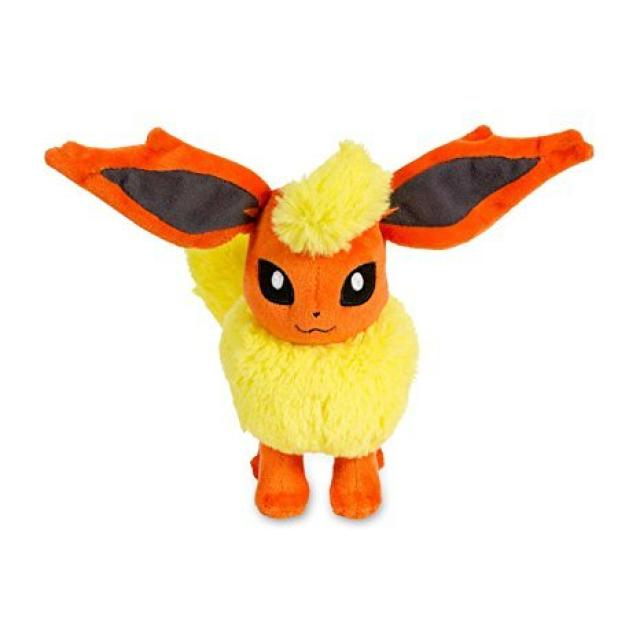Flareon: (178, 140, 448, 527)
